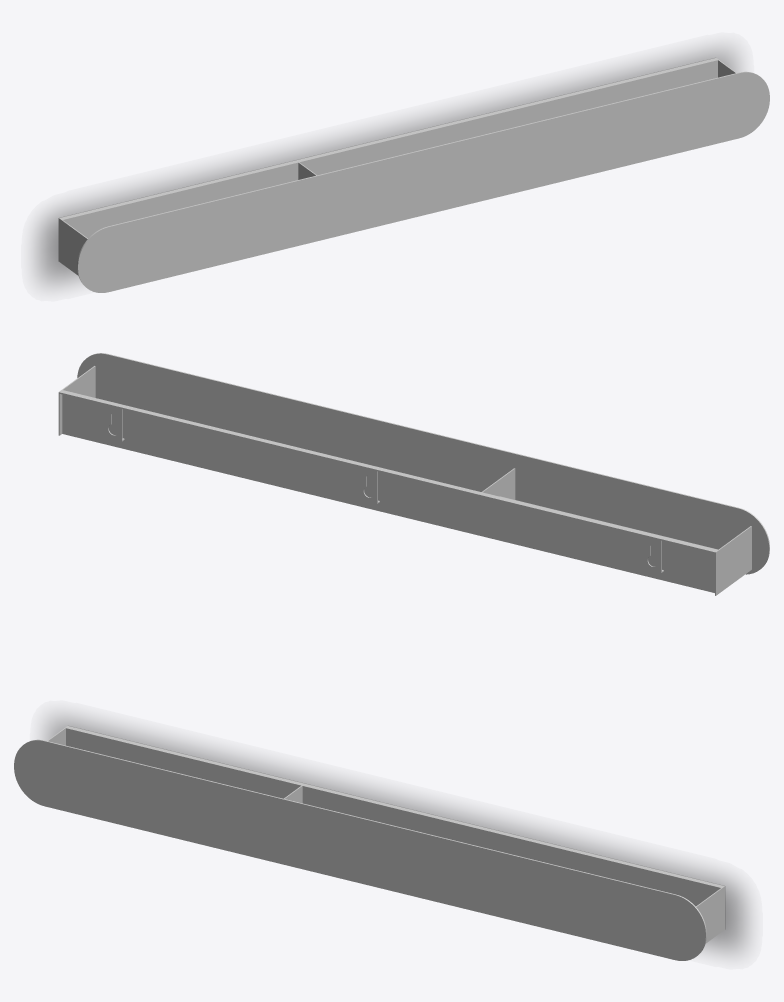
Rendered from round-double.56c6e88fd1.ar.glb.
3 views of the same model, one above another, from view 1: azimuth 30°, elevation 25°; view 2: azimuth 150°, elevation 25°; view 3: azimuth 330°, elevation 25° (orthographic).
Visible parts, largest first — view 1: NAUO1, object 2; view 2: NAUO1; view 3: NAUO1, object 2.
Boxes of the visible parts, bbox=[...] form: NAUO1: bbox=[58, 57, 769, 292]; object 2: bbox=[35, 48, 739, 285]; NAUO1: bbox=[58, 353, 769, 595]; NAUO1: bbox=[14, 725, 725, 960]; object 2: bbox=[44, 716, 748, 953].
Bounding box in the file's own units: 1.08 × 0.17 × 0.092.
2 materials, 1 textured.
